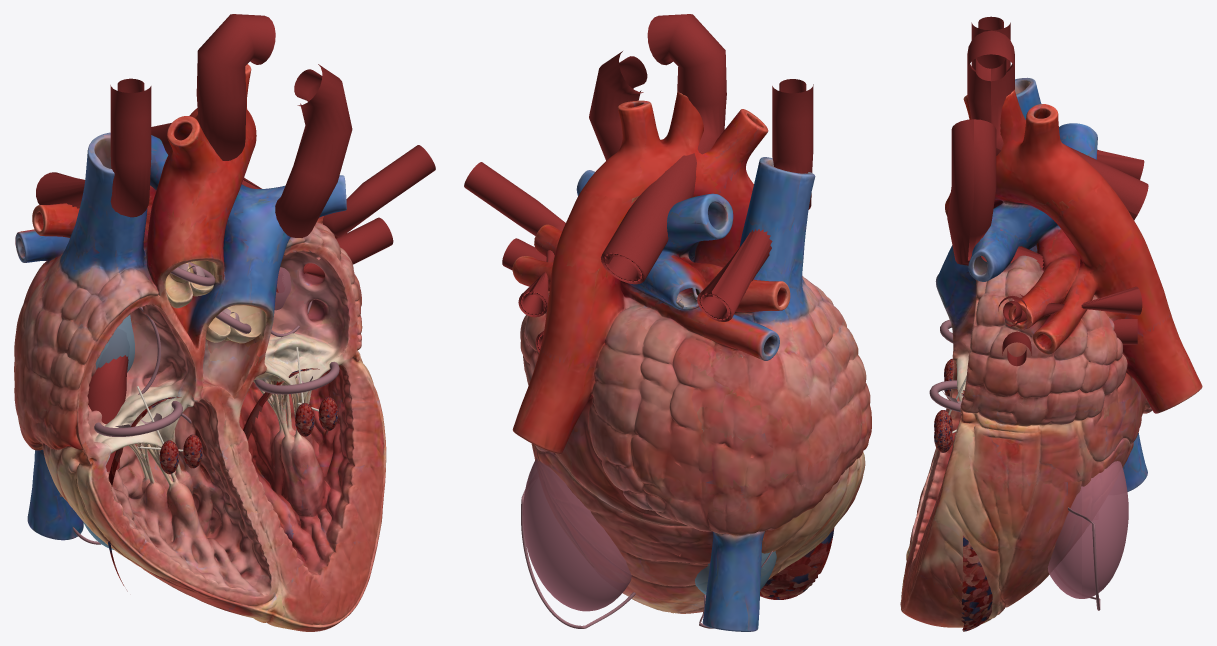
The model's file is heart_segmented_pulmonary_leaky.glb.
The picture shows the model from 3 angles, left to right: view 1: azimuth 30°, elevation 25°; view 2: azimuth 150°, elevation 25°; view 3: azimuth 270°, elevation 25°; orthographic projection. The views are drawn at different scales.
Parts seen in each view (by area): view 1: HeartBody, PulmonaryTrunk, Aorta, SVC, PulmonaryVeinL, IVC, PulmonaryVeinR, BloodRA, AnnulusTricuspid, AnnulusMitral; view 2: HeartBody, Aorta, BloodLV, SVC, PulmonaryVeinL, PulmonaryTrunk, WallRV, CavityLipLV, PulmonaryVeinR, BloodRV; view 3: HeartBody, BloodLV, PulmonaryTrunk, Aorta, WallLV, PulmonaryVeinL, SVC, PulmonaryVeinR, AnnulusMitral, PapillaryMitral2, CavityLipLV.
Boxes of the visible parts, x1,y1,x2,y2 form: HeartBody: (14,64,386,631); PulmonaryTrunk: (275,64,352,237); Aorta: (151,14,275,160); SVC: (36,78,151,217); PulmonaryVeinL: (242,145,435,236); IVC: (87,329,129,471); PulmonaryVeinR: (276,217,393,292); BloodRA: (95,315,134,372); AnnulusTricuspid: (94,401,182,436); AnnulusMitral: (254,361,339,394); HeartBody: (512,91,871,631); Aorta: (601,14,726,284); BloodLV: (523,458,631,611); SVC: (697,79,813,321); PulmonaryVeinL: (464,162,565,317); PulmonaryTrunk: (589,51,647,160); WallRV: (760,528,834,599); CavityLipLV: (521,479,635,628); PulmonaryVeinR: (502,238,546,352); BloodRV: (695,551,776,594); HeartBody: (900,77,1202,627); BloodLV: (1047,461,1128,598); PulmonaryTrunk: (947,119,1043,269); Aorta: (967,30,1148,220); WallLV: (961,390,992,631); PulmonaryVeinL: (998,286,1142,326); SVC: (971,16,1144,179); PulmonaryVeinR: (1002,319,1137,366); AnnulusMitral: (929,380,960,412); PapillaryMitral2: (934,420,952,452); CavityLipLV: (1068,507,1100,610).
Size of the model in its own units: 0.0997 by 0.1465 by 0.0701.
10 materials, 4 textured.
